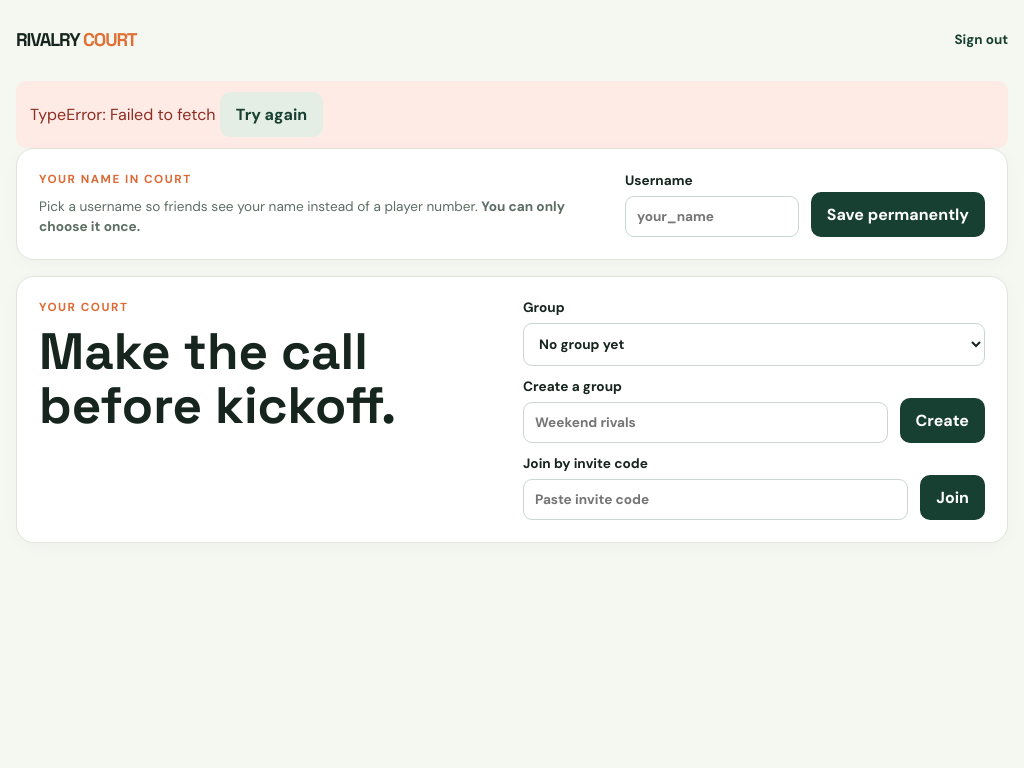
Test case: a signed-in member can retry after a temporary API failure
Expected: the message shows "Failed to fetch", [30,104,216,125]
Step 1. Click the button "Try again" → (271, 114), box [220,92,323,137]
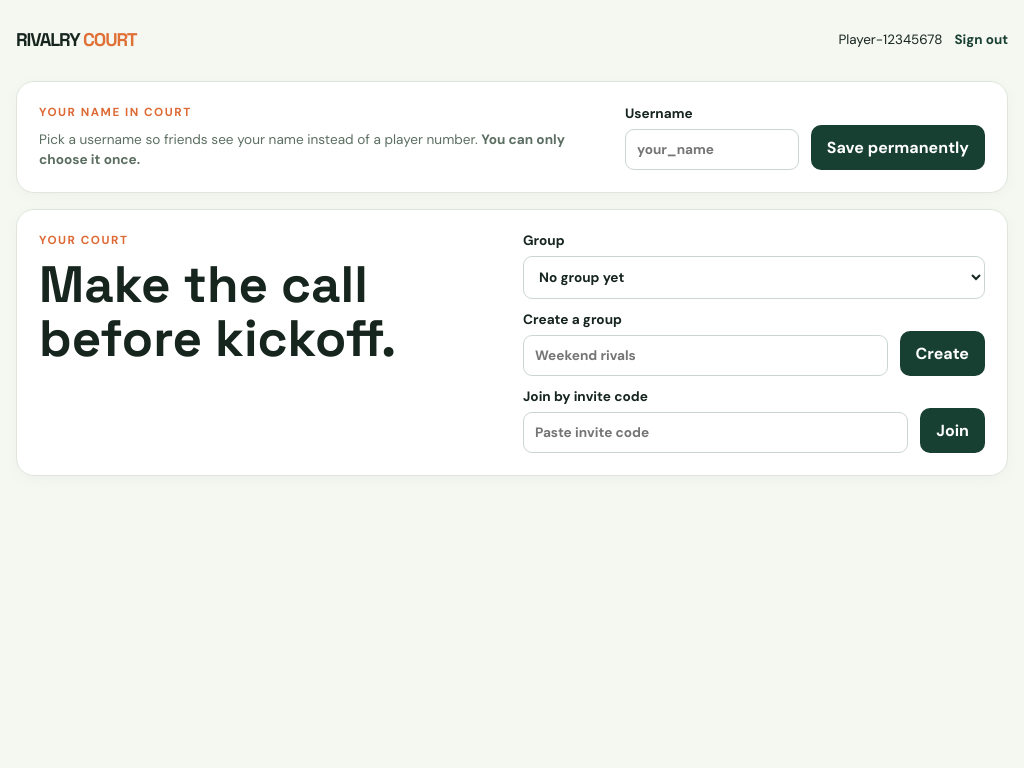
Expected: the message "TypeError: Failed to fetch Try again" is gone
Expected: the text "Player-12345678" is shown, [838,31,942,48]
